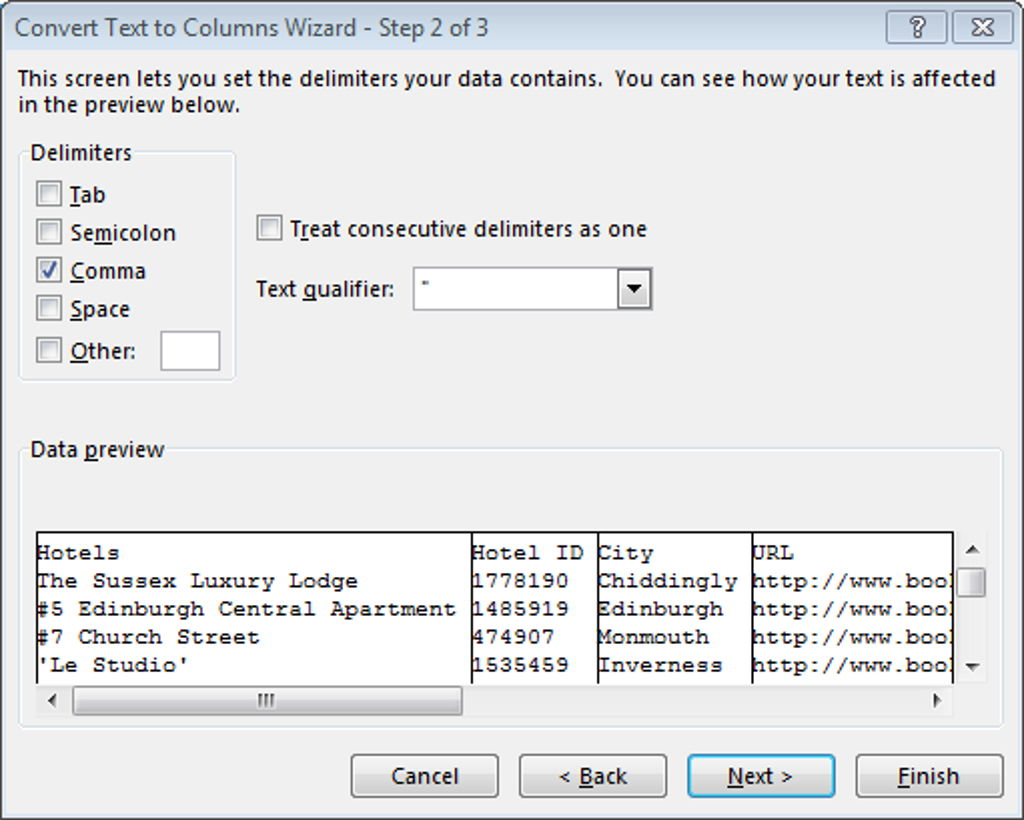button: (73, 686, 462, 715), (350, 753, 499, 797), (686, 753, 835, 797), (519, 753, 667, 797), (856, 754, 1004, 798), (885, 8, 948, 44), (952, 8, 1014, 44), (618, 267, 652, 311), (34, 686, 72, 716), (955, 649, 986, 684), (956, 530, 987, 564), (956, 567, 987, 597), (255, 214, 285, 244), (925, 686, 953, 716), (35, 179, 63, 207), (36, 256, 63, 283), (36, 336, 62, 363), (36, 218, 62, 245), (36, 295, 62, 321)
common: (15, 66, 998, 116), (289, 217, 651, 243), (254, 277, 395, 303), (70, 222, 177, 246), (69, 260, 148, 284), (69, 339, 136, 364), (69, 298, 132, 321), (66, 183, 108, 207)
container: (1, 48, 1024, 820), (18, 434, 1004, 728), (18, 138, 235, 380), (1, 1, 1024, 48), (34, 686, 956, 718), (37, 532, 952, 564), (36, 564, 952, 594), (37, 622, 953, 652), (37, 652, 953, 681), (37, 594, 952, 622), (252, 265, 655, 313), (251, 211, 656, 247), (413, 268, 653, 311), (33, 326, 223, 374), (955, 530, 988, 686), (34, 216, 179, 246), (34, 254, 150, 285), (34, 335, 137, 365), (35, 294, 134, 322), (35, 179, 110, 208)
header: (13, 13, 491, 40), (28, 437, 167, 463), (29, 141, 133, 165)
table: (35, 531, 954, 685)
table-cell: (37, 532, 472, 566), (37, 622, 472, 652), (37, 652, 472, 681), (37, 566, 472, 594), (37, 594, 472, 622), (752, 532, 953, 566), (751, 622, 953, 653), (752, 652, 953, 681), (752, 594, 953, 622), (753, 566, 953, 594), (598, 532, 752, 566), (598, 622, 752, 652), (598, 652, 752, 681), (598, 566, 752, 594), (598, 594, 752, 622), (472, 532, 598, 566), (472, 622, 598, 652), (472, 652, 598, 681), (472, 566, 598, 594), (472, 594, 598, 622)
text-input: (413, 267, 618, 310), (158, 328, 222, 373)
